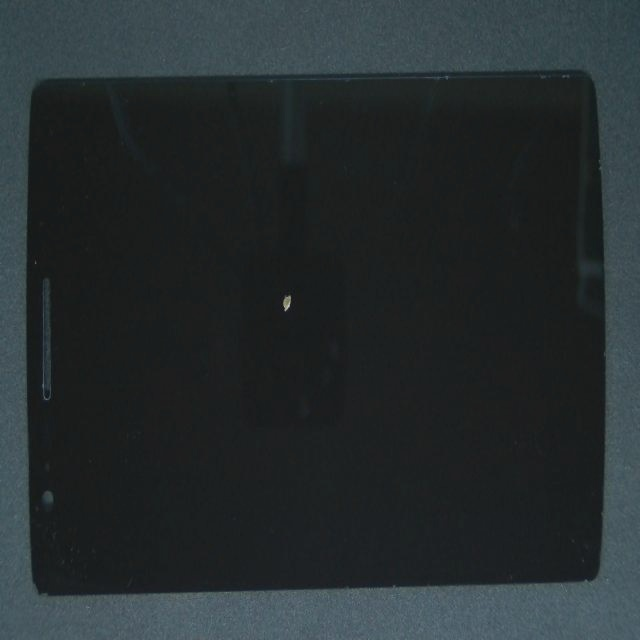stain: (156, 102, 424, 420)
